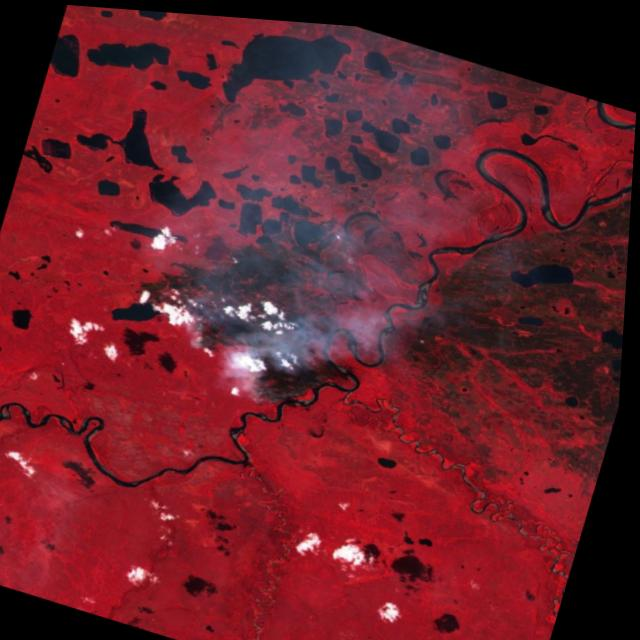fire: (162, 302, 331, 421)
